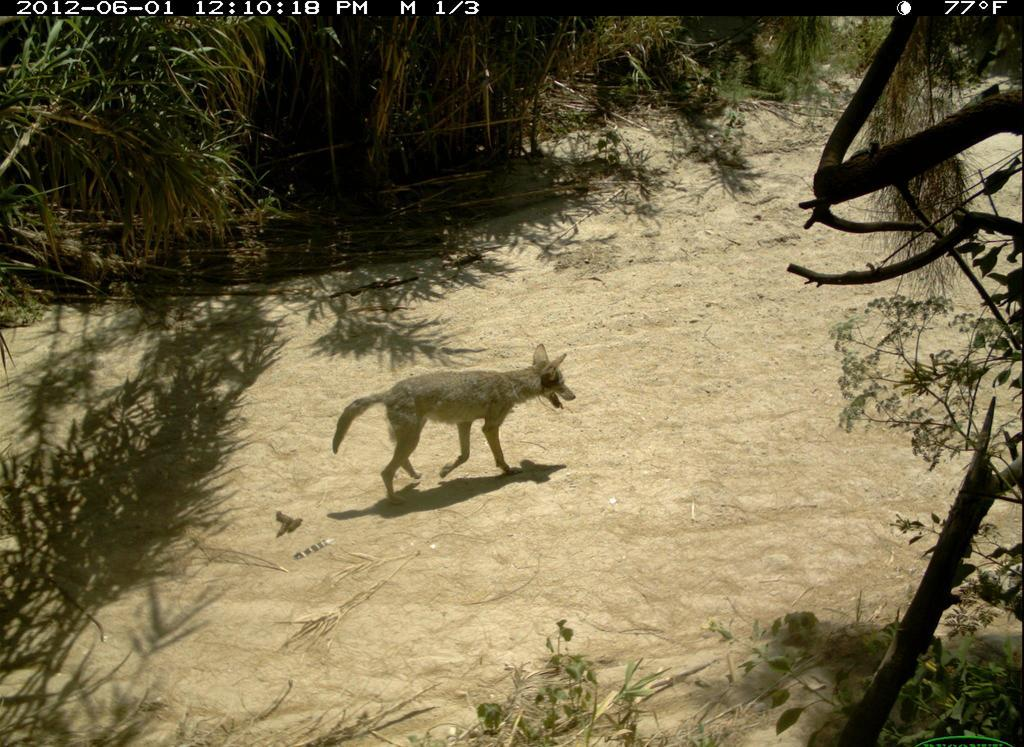coyote: (332, 338, 582, 513)
